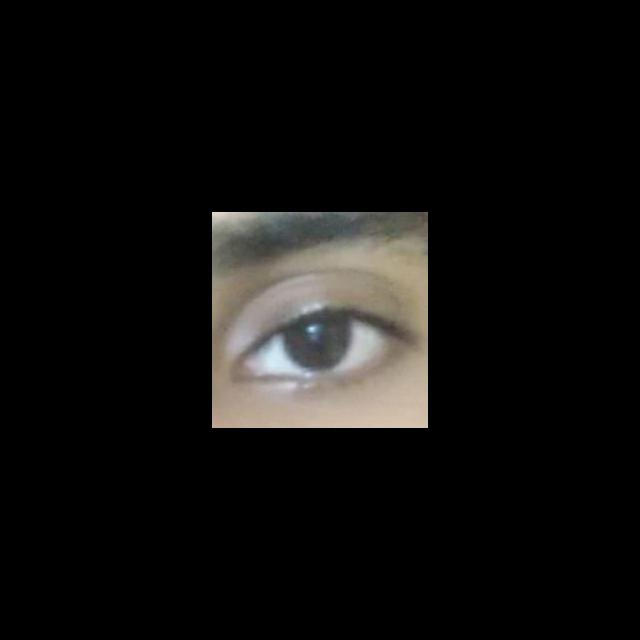eye: (250, 314, 387, 376)
iris: (284, 317, 351, 370)
